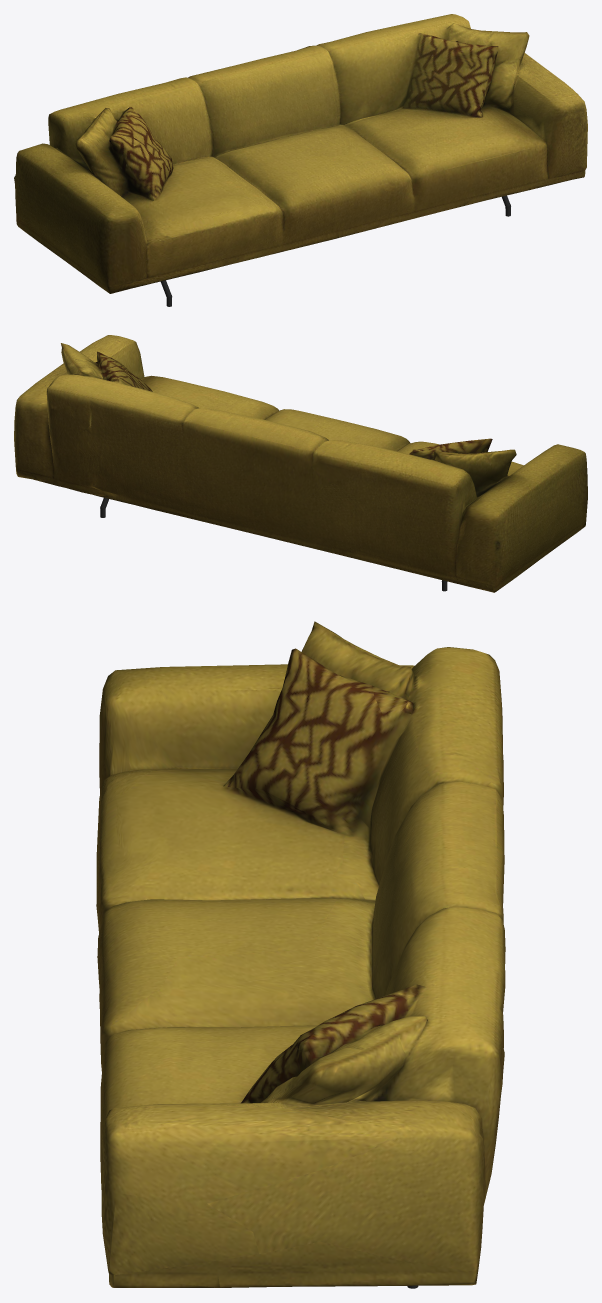
The picture shows the model from 3 angles, top to bottom: view 1: azimuth 30°, elevation 25°; view 2: azimuth 150°, elevation 25°; view 3: azimuth 270°, elevation 25°; orthographic projection. The views are drawn at different scales.
Parts seen in each view (by area): view 1: 3DModel_LowPoly; view 2: 3DModel_LowPoly; view 3: 3DModel_LowPoly.
Part boxes in pixels (x1,y1,x2,y2): 3DModel_LowPoly: (14,14,587,293); 3DModel_LowPoly: (14,335,587,592); 3DModel_LowPoly: (96,621,505,1287).
Bounding box in the file's own units: 2.45 × 0.7006 × 0.8854.
Materials: 9 (1 with a texture image).
